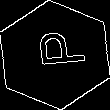P_W: (26, 34, 84, 76)
